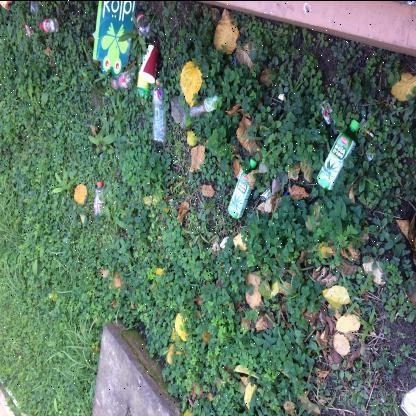cardboard: (91, 1, 137, 77), (138, 43, 160, 82), (0, 0, 14, 8)
glass: (316, 118, 360, 190), (227, 158, 257, 218)
plastic: (152, 78, 166, 142), (190, 94, 218, 116), (111, 68, 134, 90), (94, 180, 104, 214), (40, 16, 60, 32)
